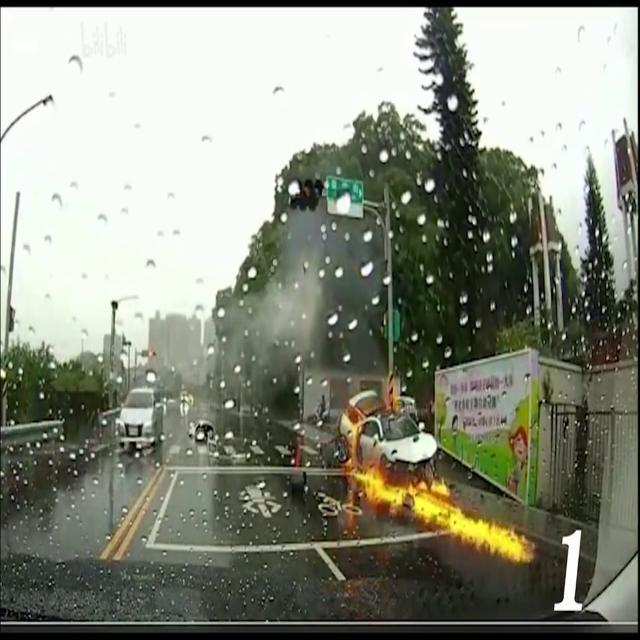normal: (92, 343, 182, 492)
single accident: (308, 322, 555, 578)
